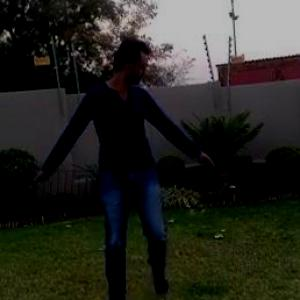land: (12, 34, 220, 299)
